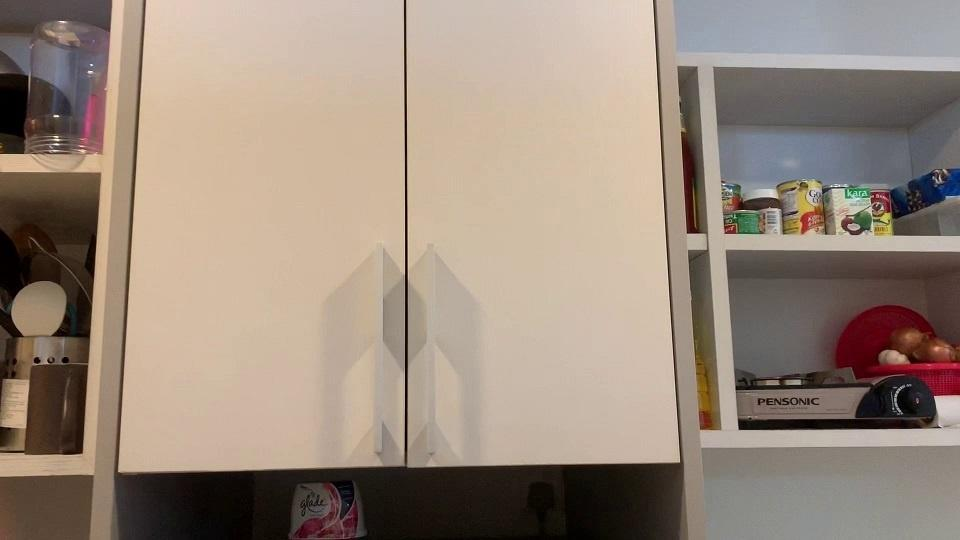cabinet_door: (131, 0, 402, 463), (404, 0, 669, 461)
handle: (419, 237, 441, 462), (368, 239, 390, 459)
